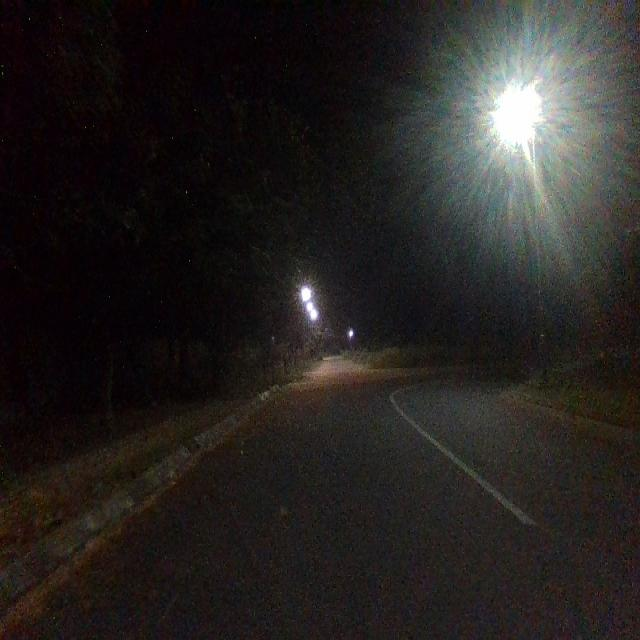lane: (0, 375, 635, 640)
